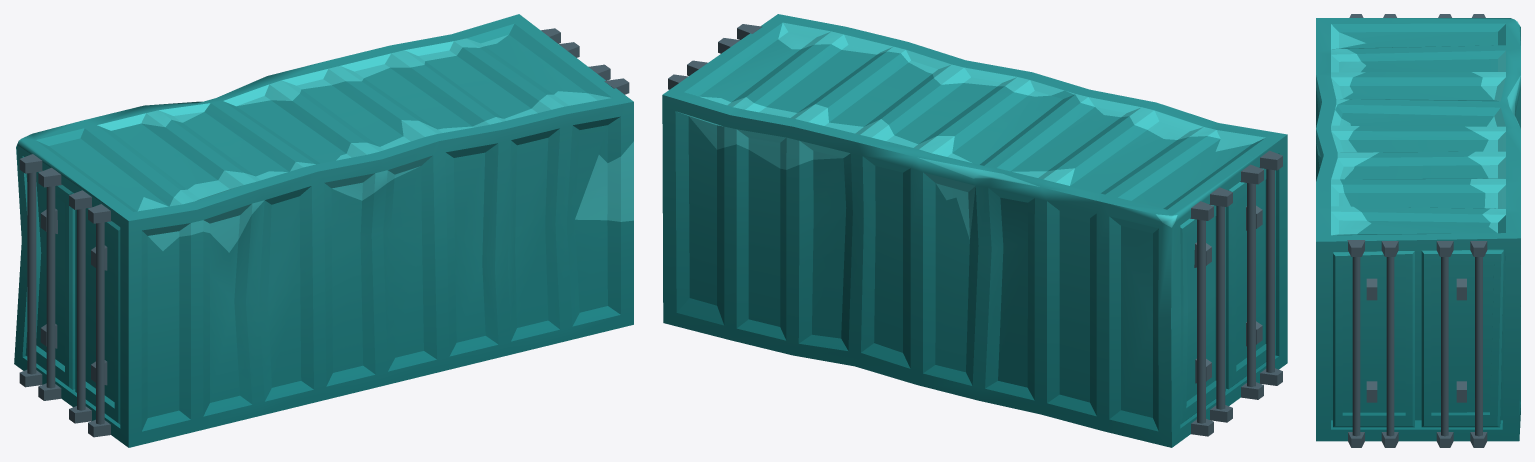
File: DC_Blue.fbx
3 renders of one model, left to right at view 1: azimuth 30°, elevation 25°; view 2: azimuth 150°, elevation 25°; view 3: azimuth 270°, elevation 25°, orthographic. The views are drawn at different scales.
Visible parts, largest first — view 1: DC_Blue; view 2: DC_Blue; view 3: DC_Blue.
Part boxes in pixels (x1,y1,x2,y2): DC_Blue: (14, 14, 633, 447); DC_Blue: (662, 14, 1287, 447); DC_Blue: (1316, 14, 1520, 447).
Bounding box in the file's own units: 648 × 262 × 240.
